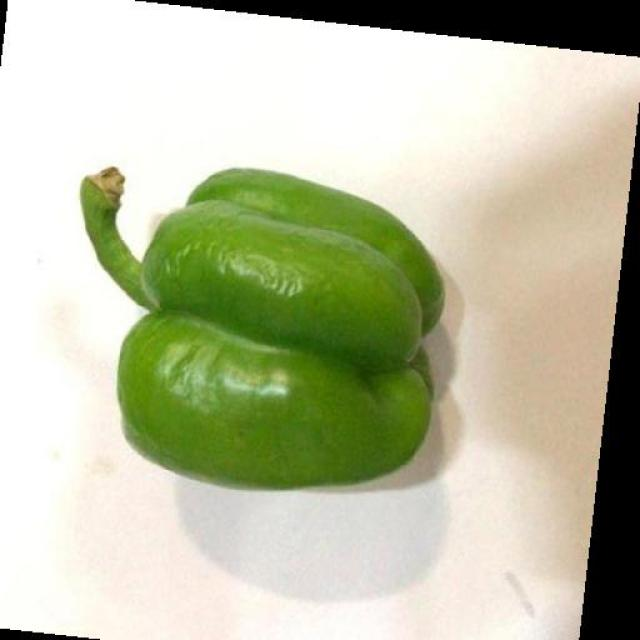Fresh_Capsicum: (90, 144, 450, 488)
